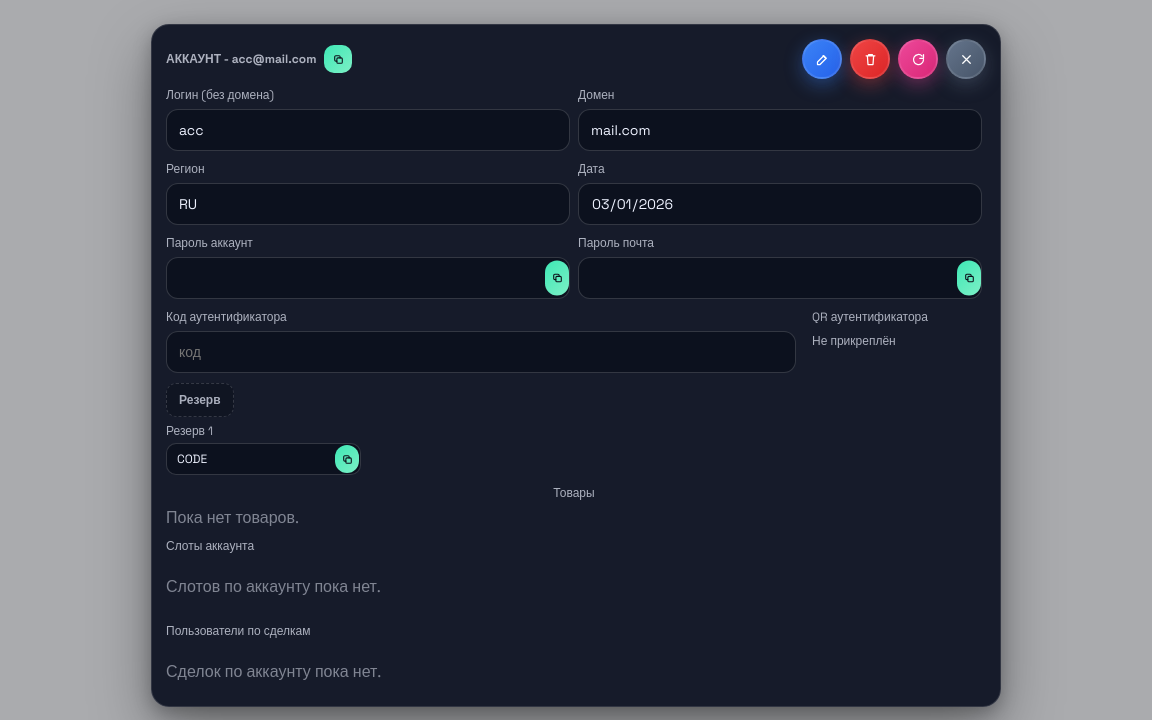
Test: WorkAccountEditorModal › trusts server rollback after a clipboard failure (released=false)
The width and height of the screenshot is (1152, 720).
What coordinates should you click on to do the following:
click the button named "Копировать Резерв 1"
I would click on:
 (347, 459)
Its box is [335,445,359,473].
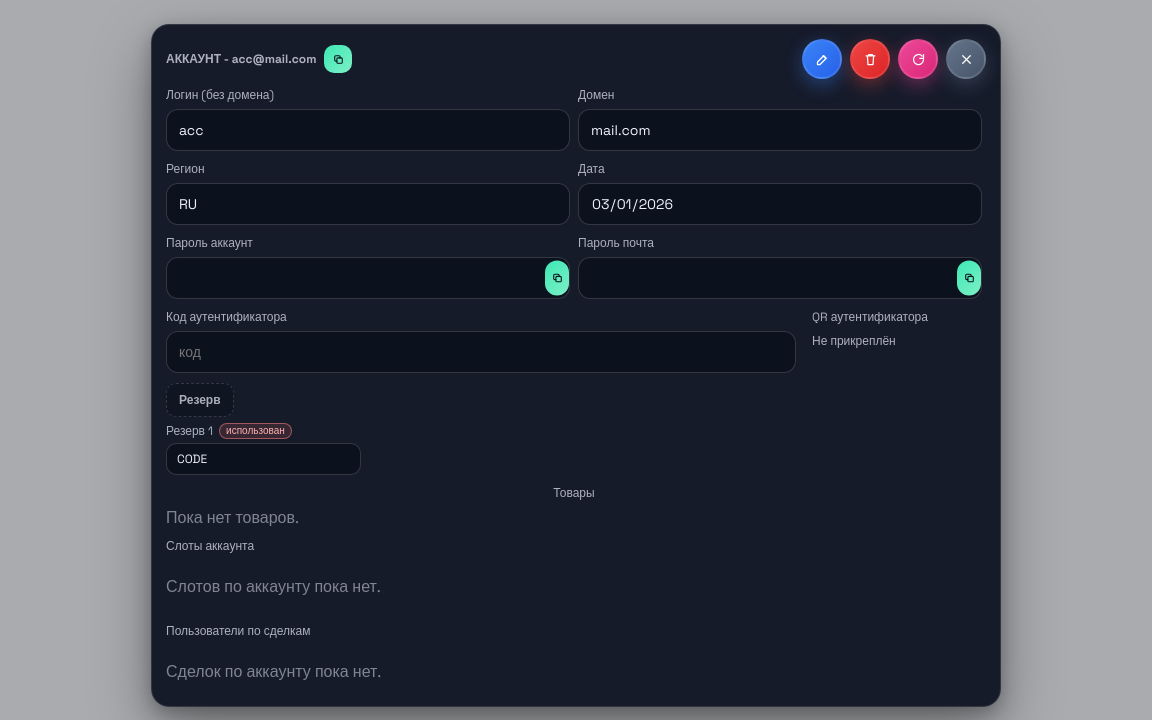
Now the text "использован" is shown, box [219,423,292,439]
